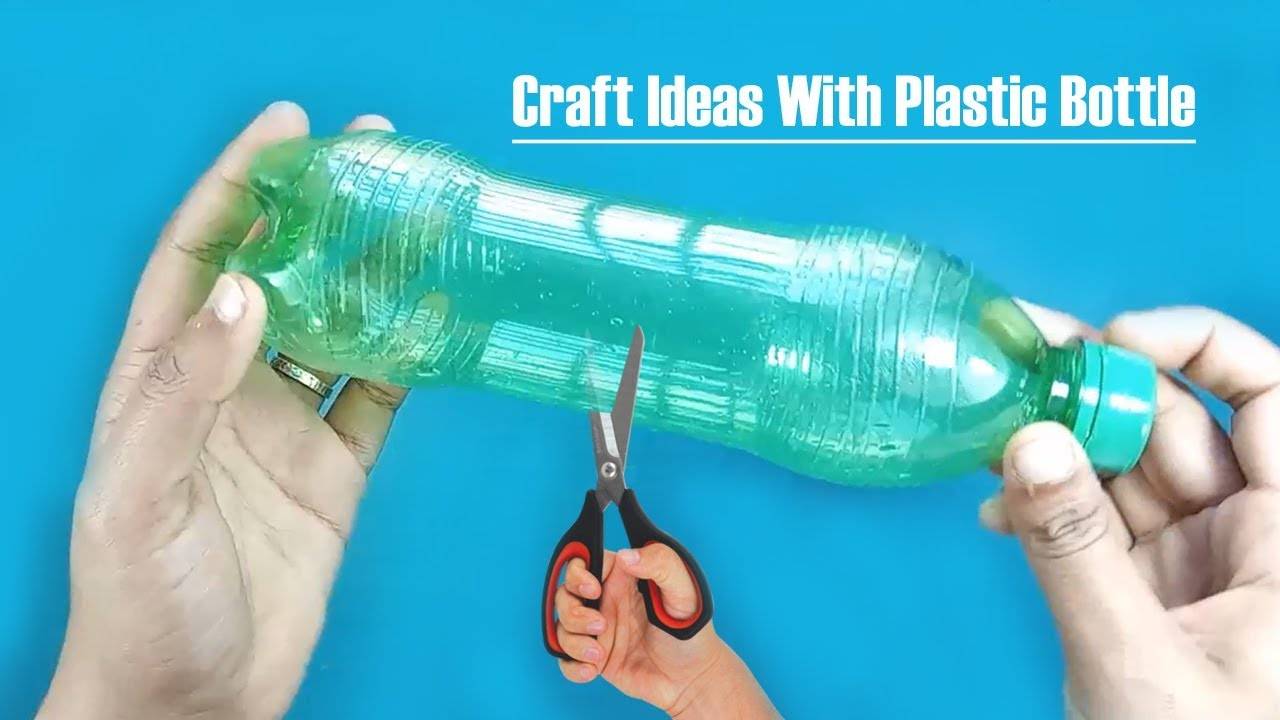plastic_bottle: (112, 66, 1256, 594)
